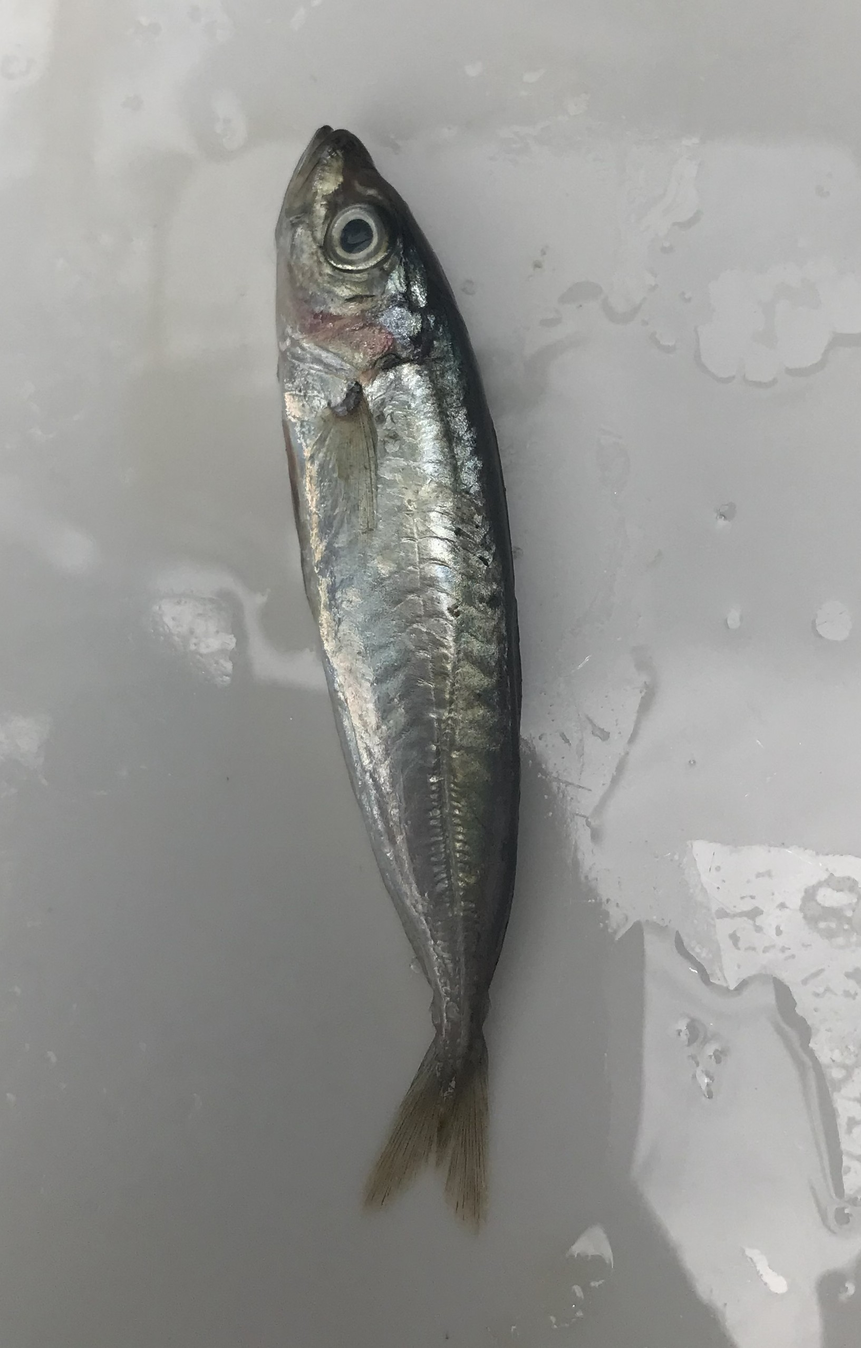burot_not_dried: (0, 124, 734, 1348)
